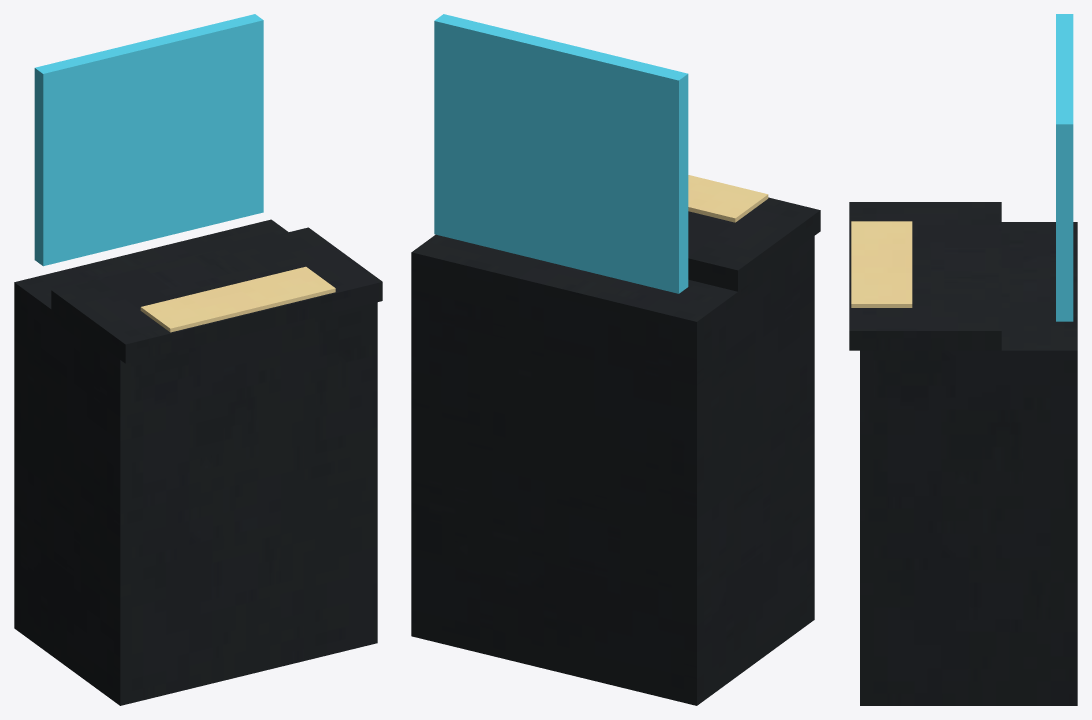
File: terminal_01.glb
The picture shows the model from 3 angles, left to right: view 1: azimuth 30°, elevation 25°; view 2: azimuth 150°, elevation 25°; view 3: azimuth 270°, elevation 25°; orthographic projection. The views are drawn at different scales.
Visible parts, largest first — view 1: terminal_01; view 2: terminal_01; view 3: terminal_01.
Boxes of the visible parts, x1=… form: terminal_01: x1=14, y1=14, x2=382, y2=705; terminal_01: x1=411, y1=14, x2=820, y2=705; terminal_01: x1=849, y1=14, x2=1077, y2=705.
Bounding box in the file's own units: 0.7 × 1.45 × 0.525.
Materials: 3 (3 with a texture image).
